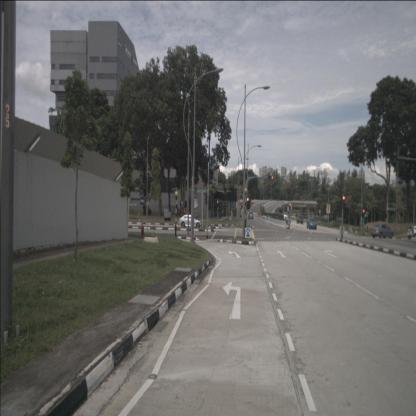movable_object-trafficcone: (140, 222, 145, 237)
vehicle-car: (178, 214, 201, 230), (370, 223, 393, 239), (407, 225, 416, 240), (307, 217, 317, 230), (296, 215, 304, 224), (283, 212, 288, 222), (248, 212, 254, 219)
